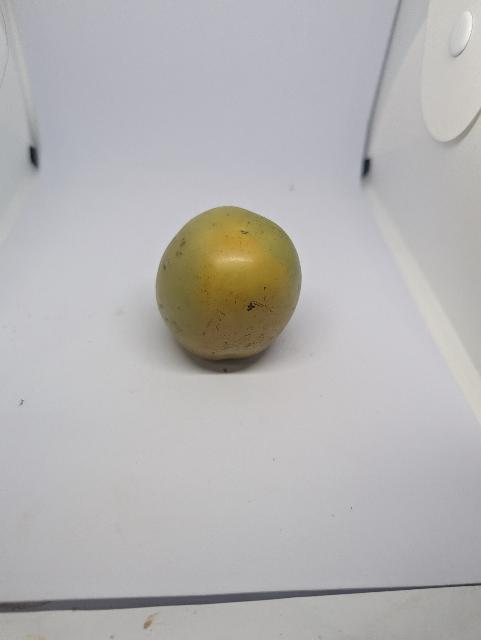breaker: (147, 196, 313, 363)
